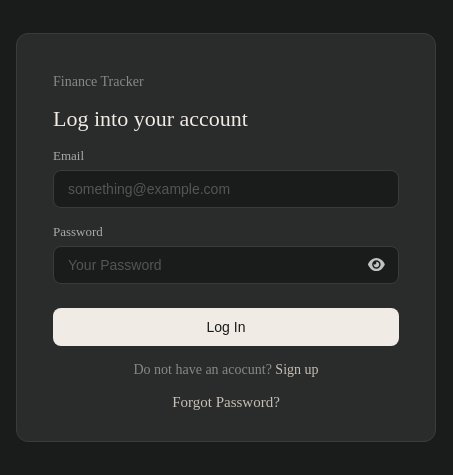
Scenario: Login › shows a validation error for empty fields before submitting
Click the button "Log In".
click(226, 326)  # box 53,308 -> 399,346
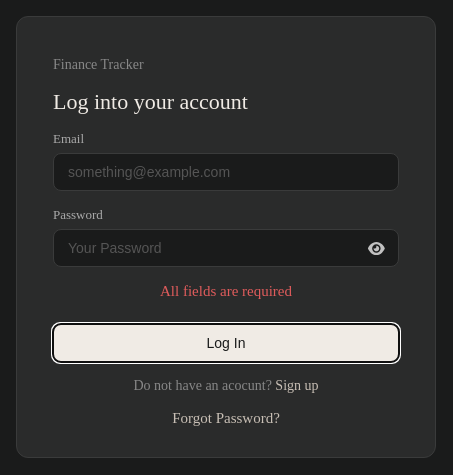
Check: the text "All fields are required" is shown, box 160,283 -> 292,299
